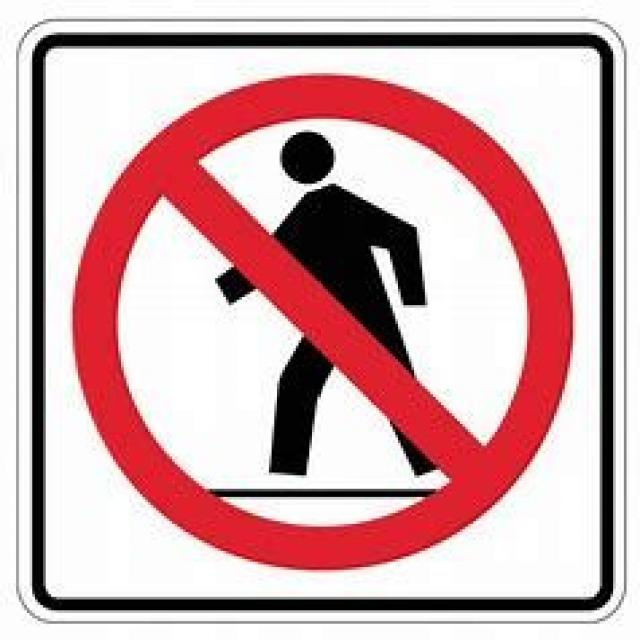PEDESTRIAN_PROHIBITED: (70, 67, 573, 570)
